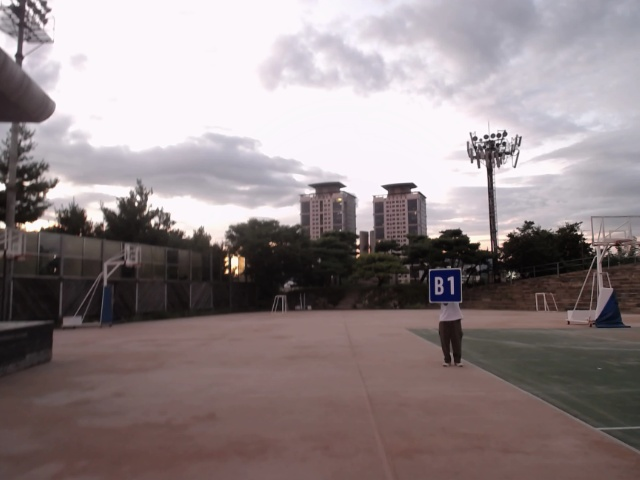delivery_b1: (428, 269, 463, 302)
